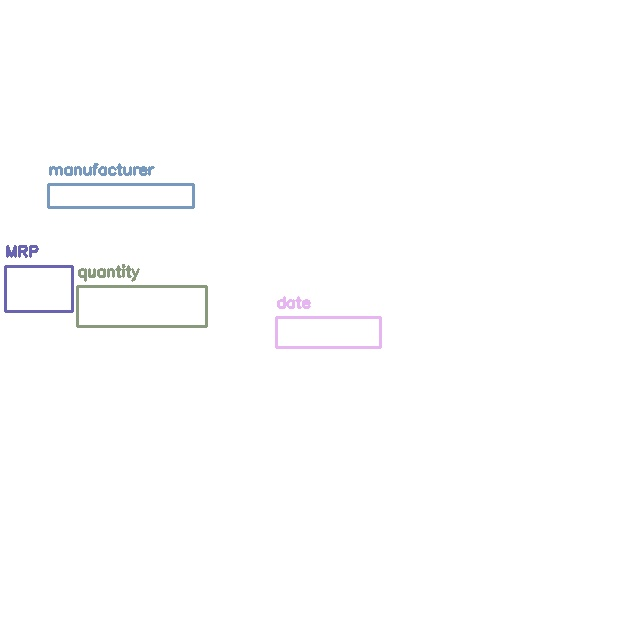MRP: (5, 266, 72, 311)
date: (276, 317, 380, 347)
manufacturer: (48, 184, 193, 207)
quantity: (77, 286, 206, 326)
